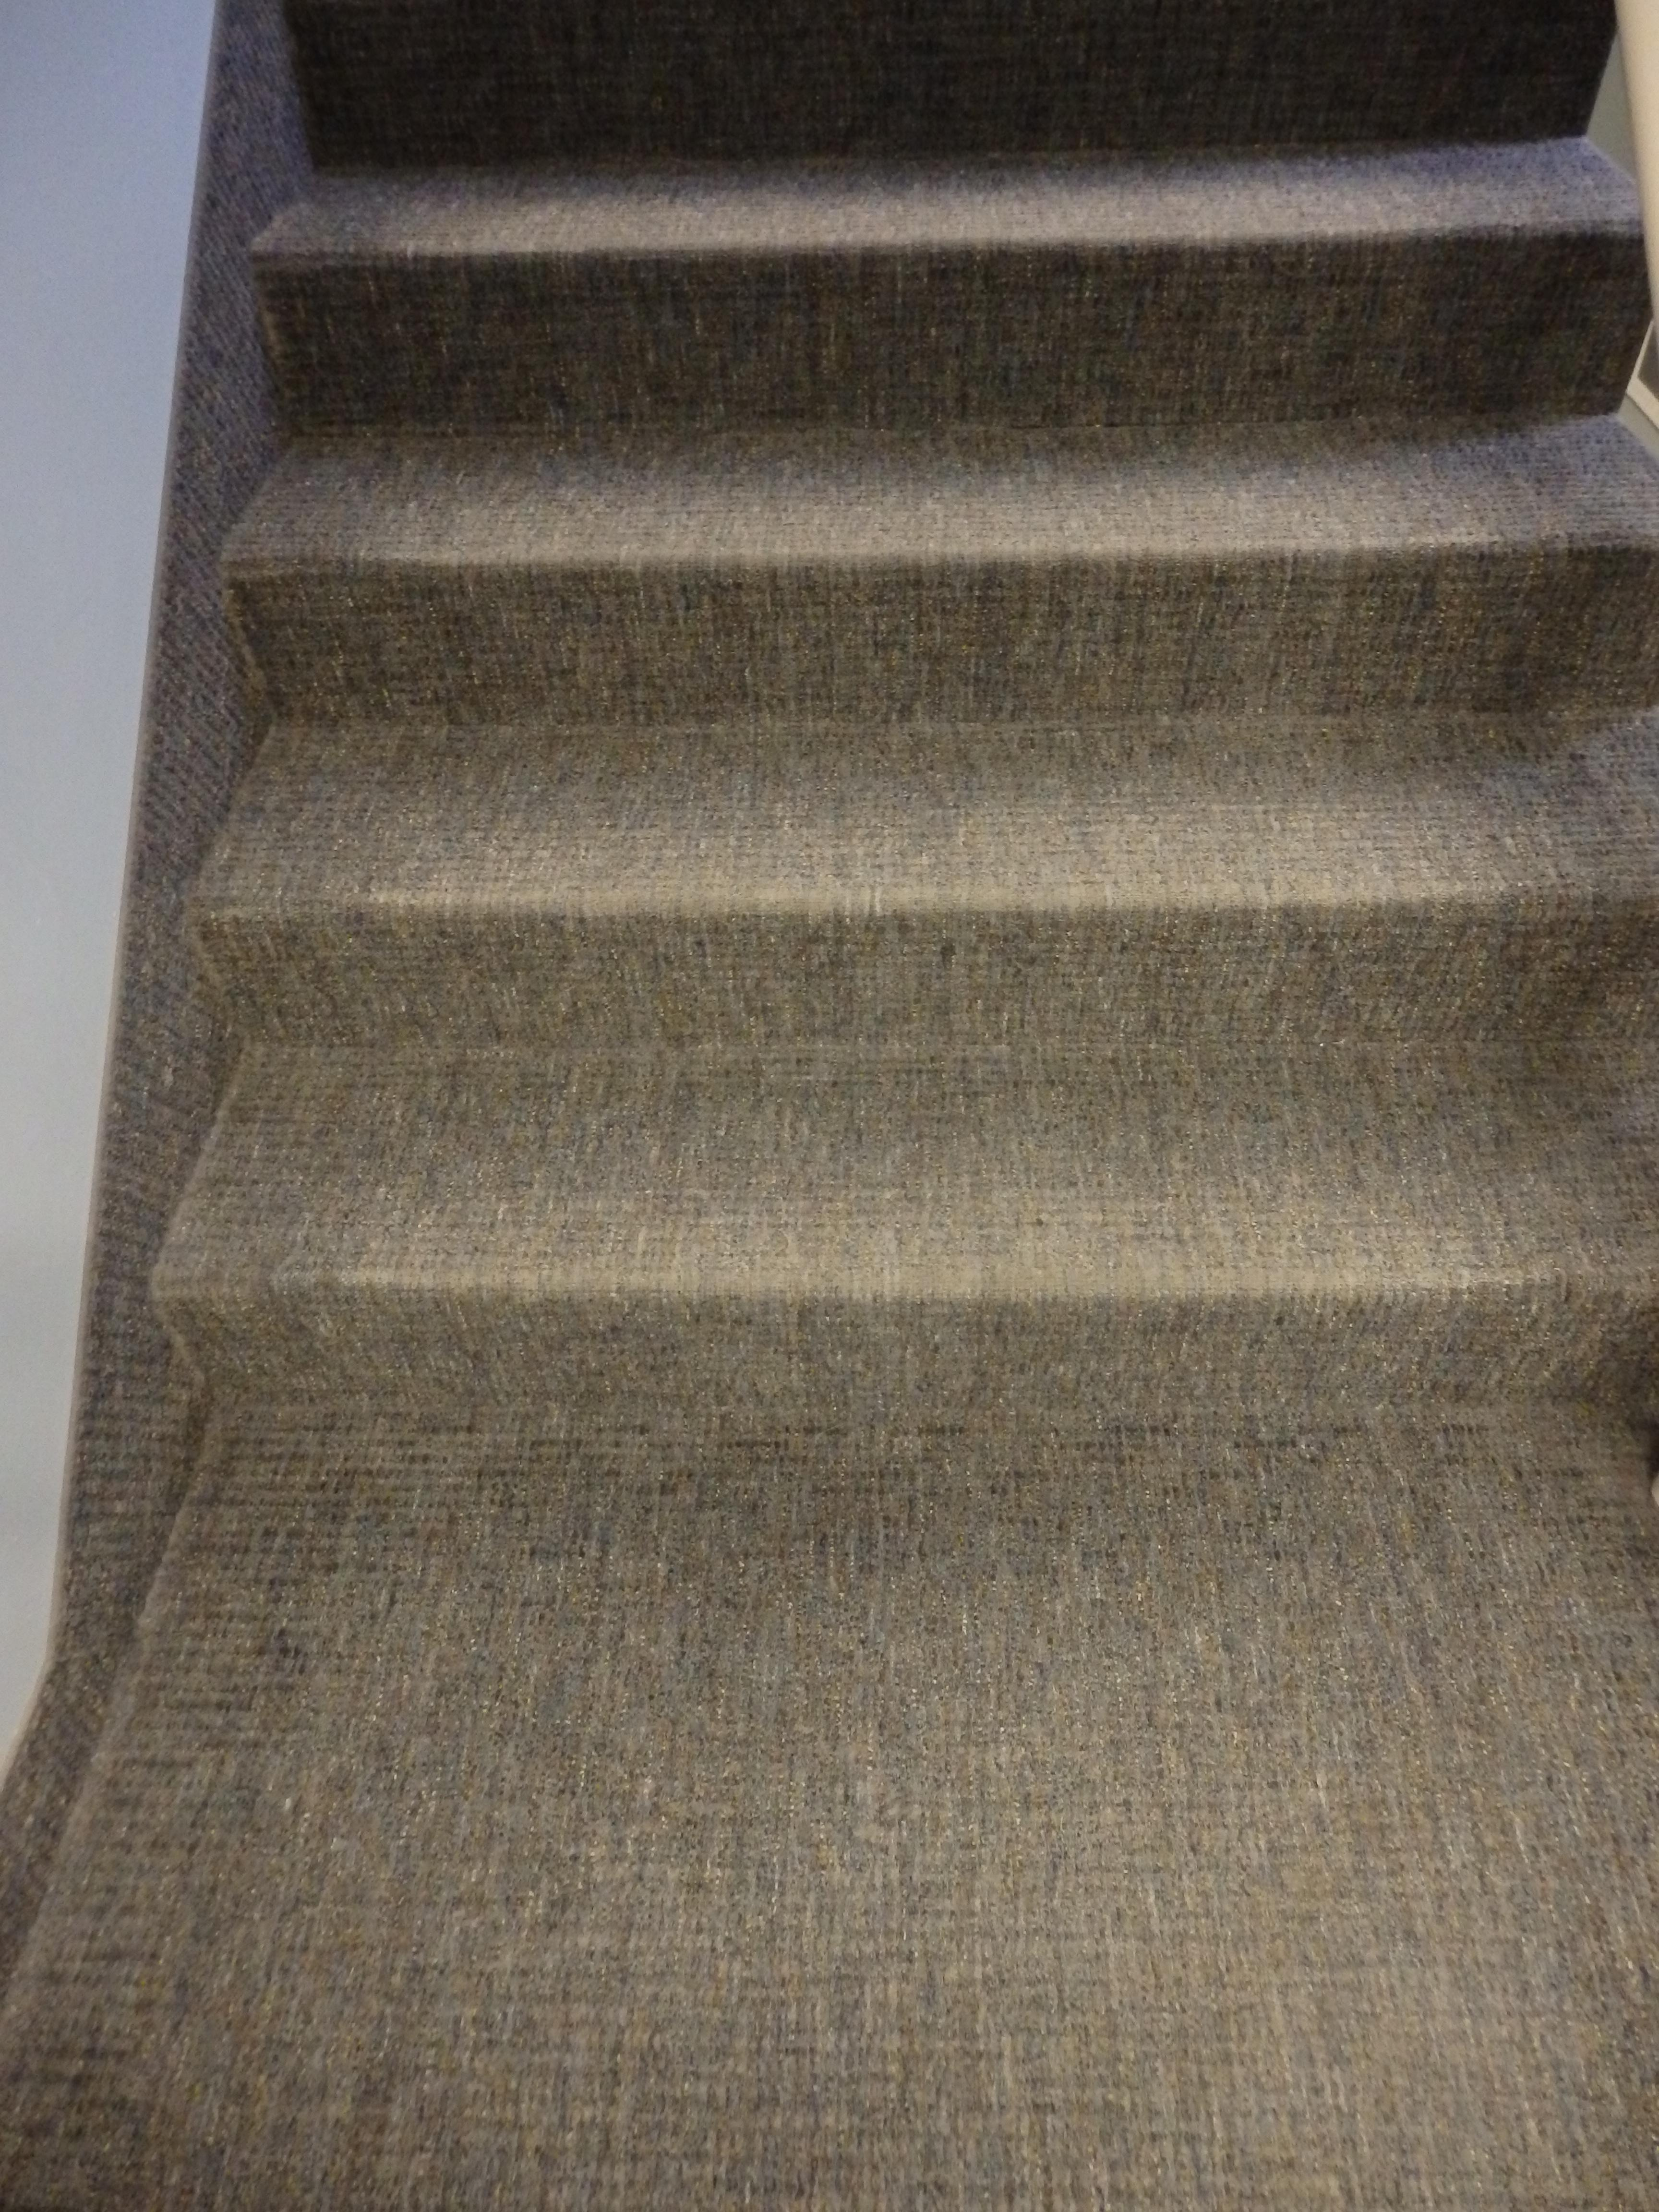stairs_up: (160, 82, 1659, 1463)
